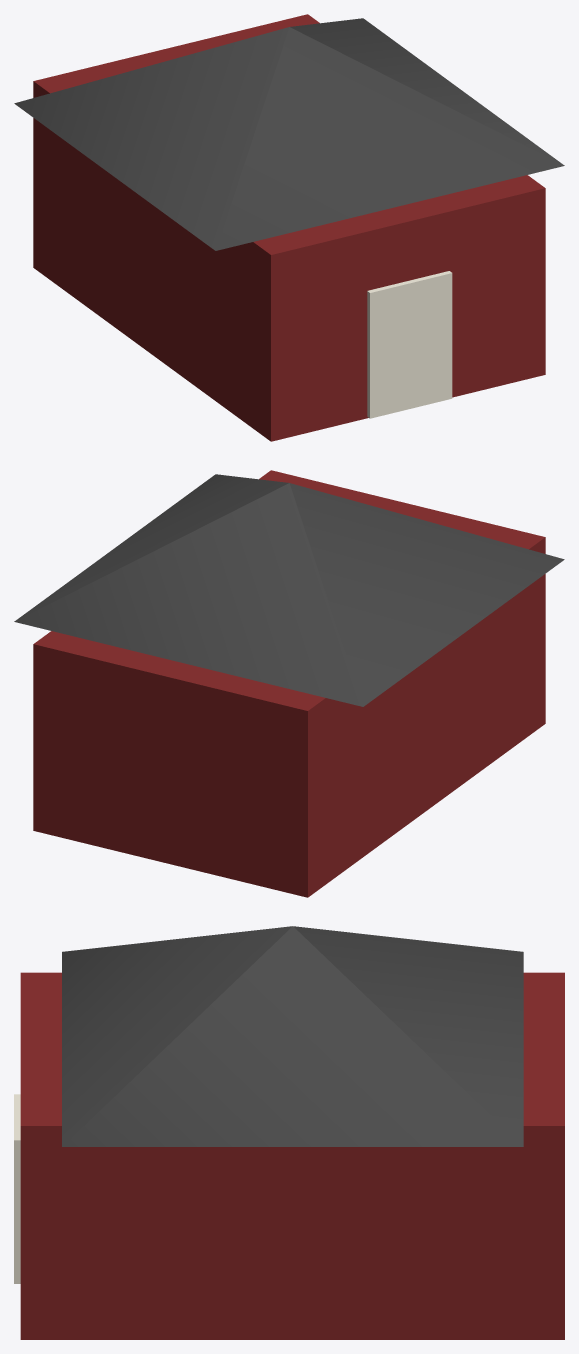
File: barn_low.glb
3 renders of one model, top to bottom at view 1: azimuth 30°, elevation 25°; view 2: azimuth 150°, elevation 25°; view 3: azimuth 270°, elevation 25°, orthographic. The views are drawn at different scales.
Size of the model in its own units: 10.18 by 8.2 by 12.15.
